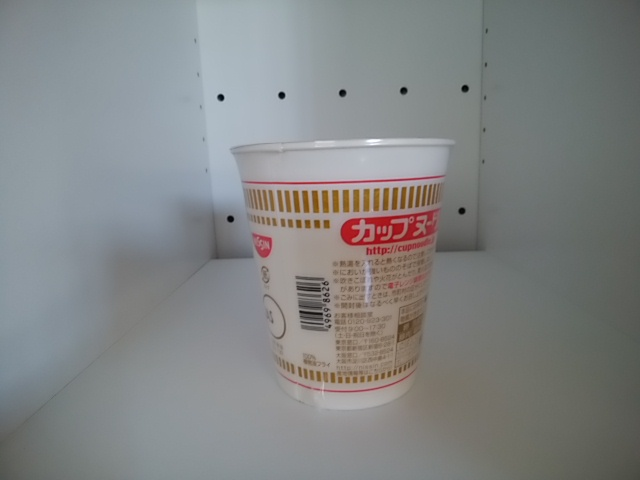cup-ramen: (230, 134, 463, 409)
